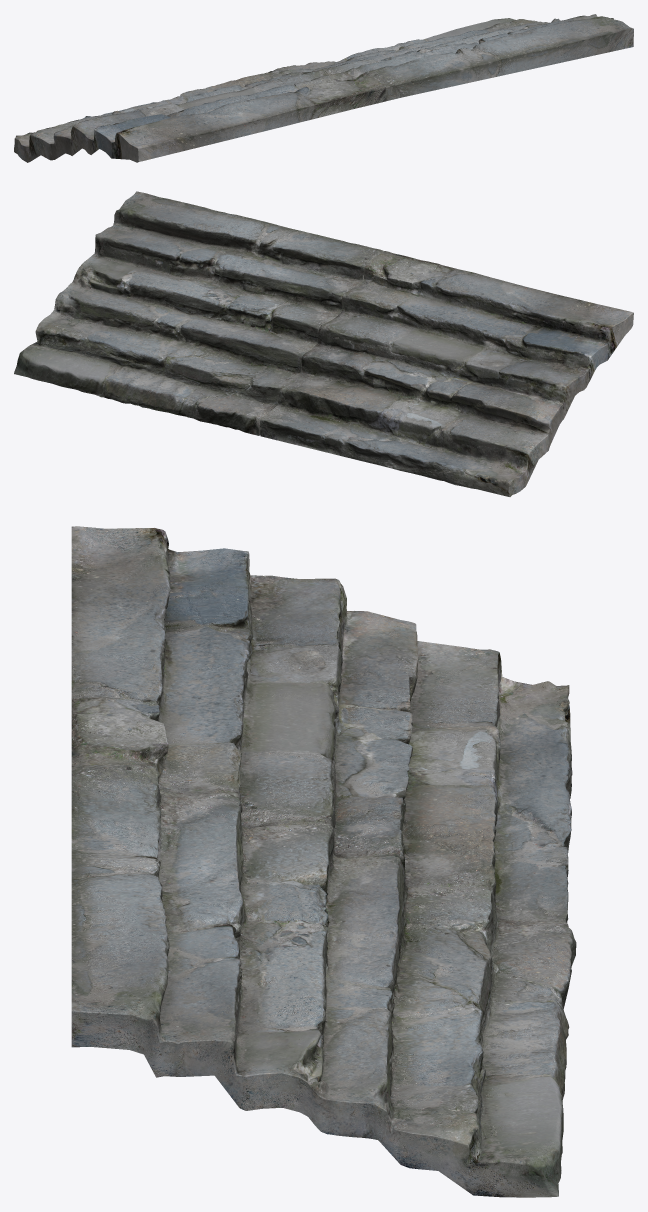
File: sm_Stairs_01_07.fbx
3 views of the same model, one above another, from view 1: azimuth 30°, elevation 25°; view 2: azimuth 150°, elevation 25°; view 3: azimuth 270°, elevation 25° (orthographic). The views are drawn at different scales.
Visible parts, largest first — view 1: sm_Stairs_01_07_LOD0; view 2: sm_Stairs_01_07_LOD0; view 3: sm_Stairs_01_07_LOD0.
Boxes of the visible parts, box(x1,y1,x2,y2) form: sm_Stairs_01_07_LOD0: box(14, 14, 633, 162); sm_Stairs_01_07_LOD0: box(14, 191, 633, 496); sm_Stairs_01_07_LOD0: box(71, 526, 576, 1197).
Bounding box in the file's own units: 404 × 176 × 75.45.
